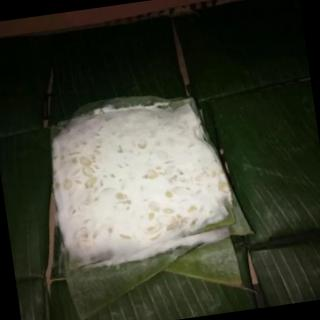Tempe: (42, 92, 241, 267)
